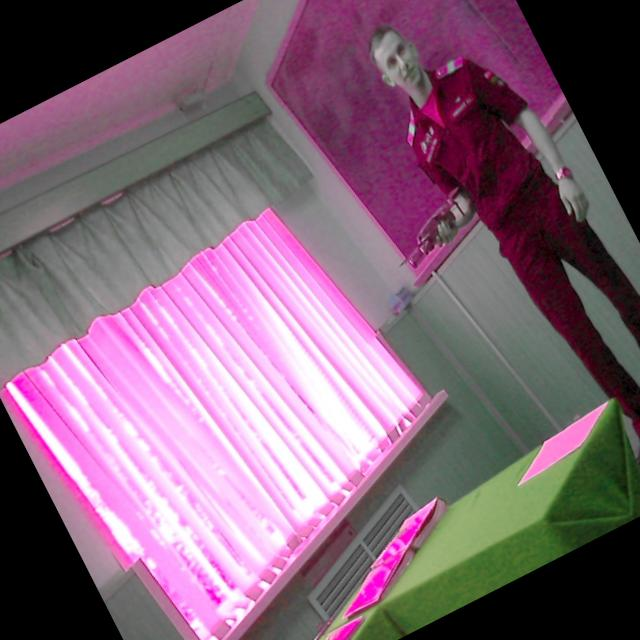drone: (381, 184, 485, 279)
